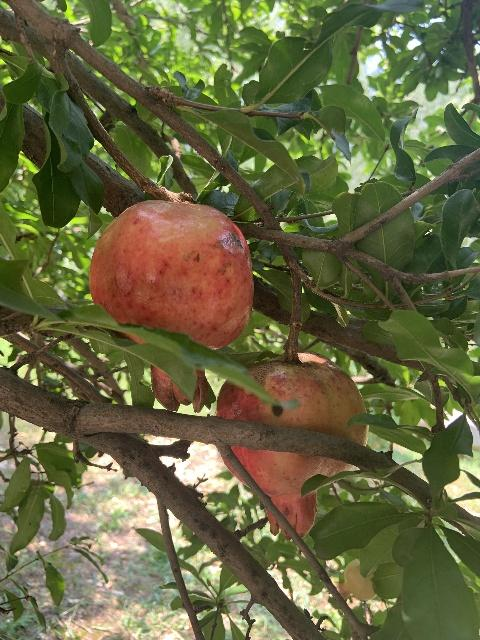mid-growth: (331, 558, 377, 600)
ripe: (89, 199, 254, 411), (214, 351, 368, 540)
